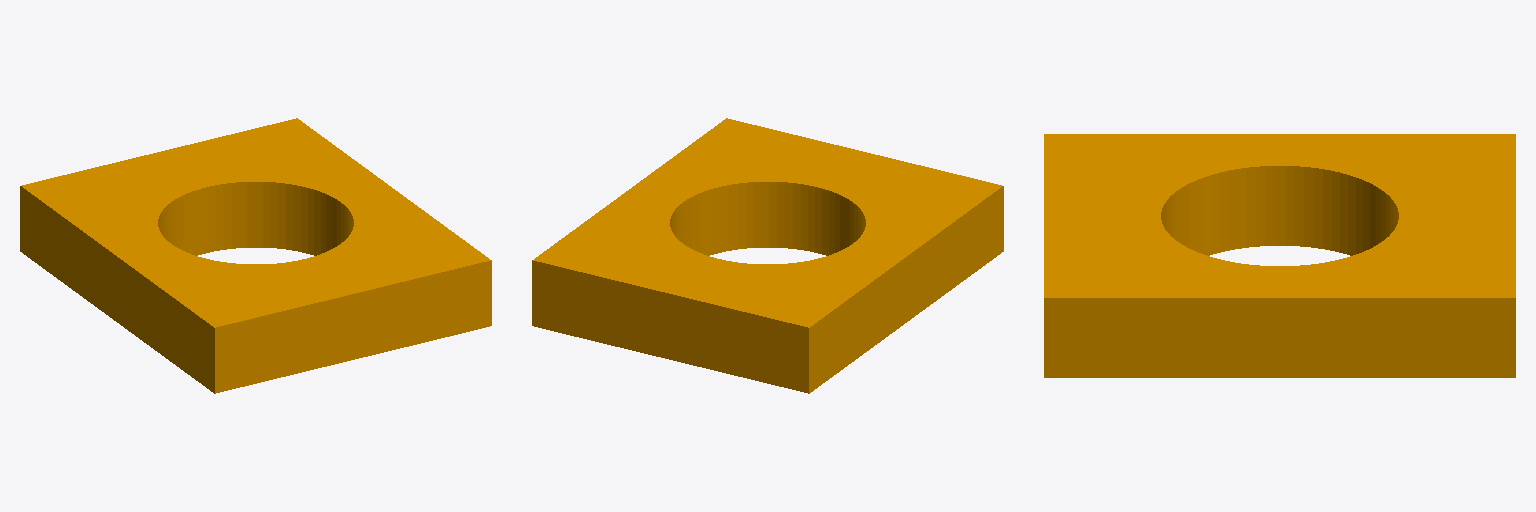
robot.urdf — industreal_tray_insert_round_peg_60mm:
<?xml version="1.0"?>
<robot name="industreal_tray_insert_round_peg_60mm">
    <link name="industreal_tray_insert_round_peg_60mm">
        <visual>
            <geometry>
                <mesh filename="../mesh/industreal_pegs/2_inCylinderAdjustedZ.obj"/>
            </geometry>
        </visual>
        <collision>
            <geometry>
                <mesh filename="../mesh/industreal_pegs/2_inCylinderAdjustedZ.obj"/>
            </geometry>
            <sdf resolution="256"/>
        </collision>
    </link>
</robot>

--- Render facts (derived) ---
3 views of the same robot in one strip: view 1: azimuth 30°, elevation 25°; view 2: azimuth 150°, elevation 25°; view 3: azimuth 270°, elevation 25° (orthographic).
Model industreal_tray_insert_round_peg_60mm with 1 links and 0 joints (none), rooted at industreal_tray_insert_round_peg_60mm, posed all joints at 0.
Links seen in each view (by area): view 1: industreal_tray_insert_round_peg_60mm; view 2: industreal_tray_insert_round_peg_60mm; view 3: industreal_tray_insert_round_peg_60mm.
Link boxes in pixels (left/top/right/bottom): industreal_tray_insert_round_peg_60mm: left=20, top=118, right=491, bottom=393; industreal_tray_insert_round_peg_60mm: left=532, top=118, right=1003, bottom=393; industreal_tray_insert_round_peg_60mm: left=1044, top=134, right=1515, bottom=377.
Bounding box of the posed robot: 0.0837 × 0.1016 × 0.0191 m (x, y, z).
1 mesh visuals loaded from 1 distinct referenced files (1 OBJ).